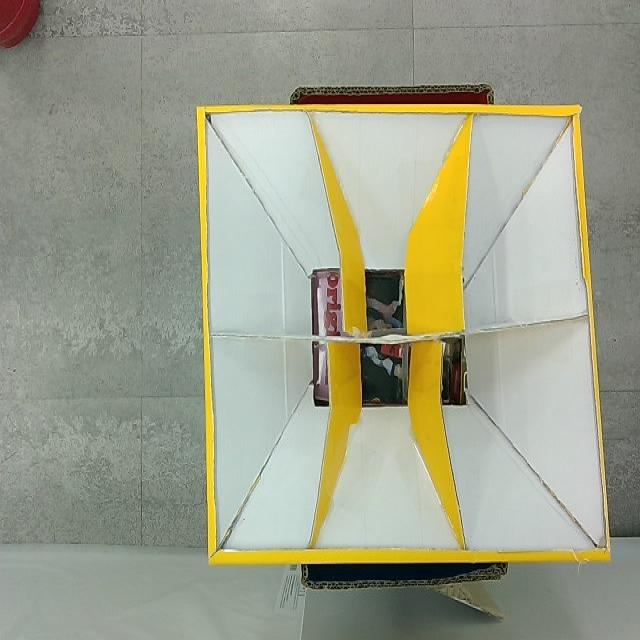box: (199, 84, 612, 587)
